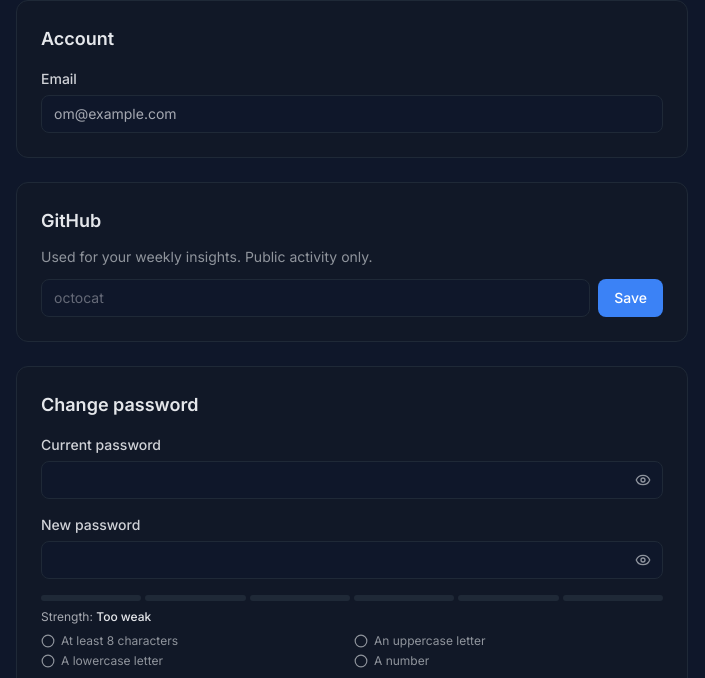
Test: SettingsPage › says when the current password is wrong
In the password field labelled "Current password": (352, 480) [41,461,663,499], type "wrong"
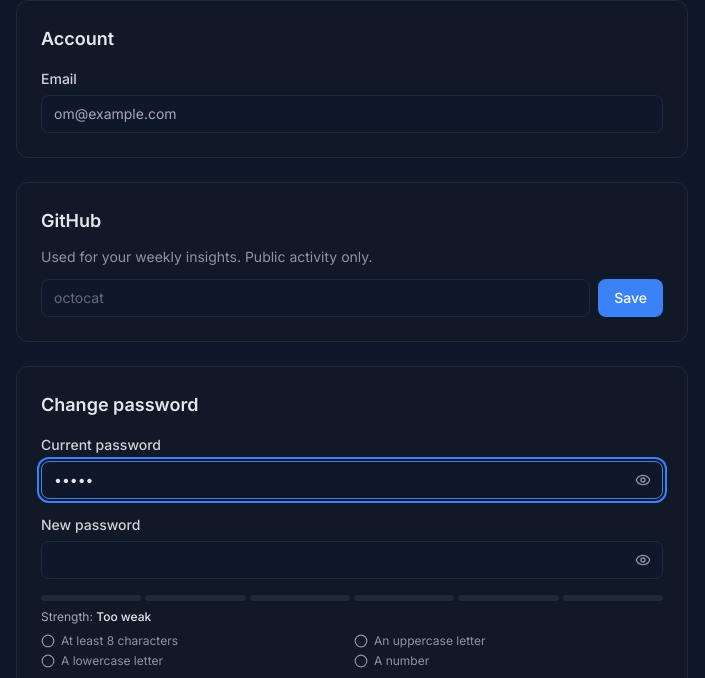
In the password field labelled "New password": (352, 560) [41,541,663,579], type "Brand-New-Pass-7"
(page scrolled)
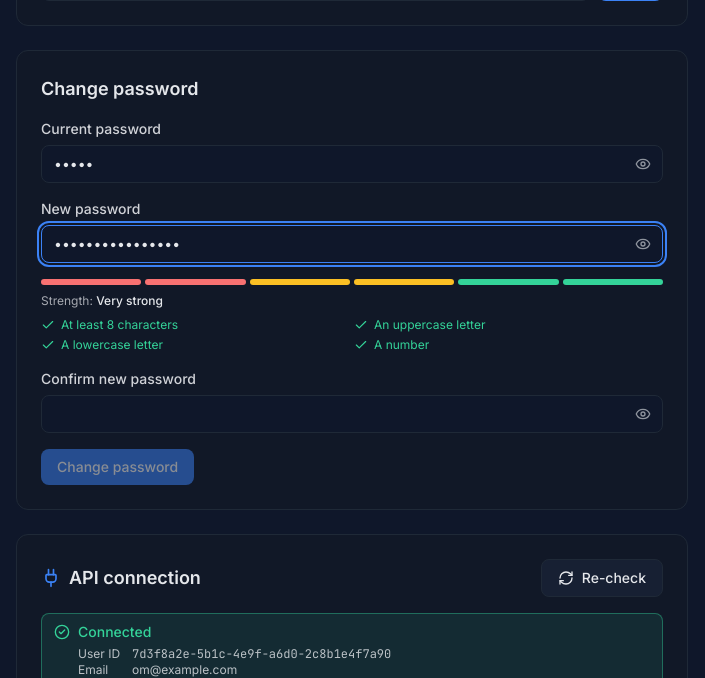
In the password field labelled "Confirm new password": (352, 414) [41,395,663,433], type "Brand-New-Pass-7"
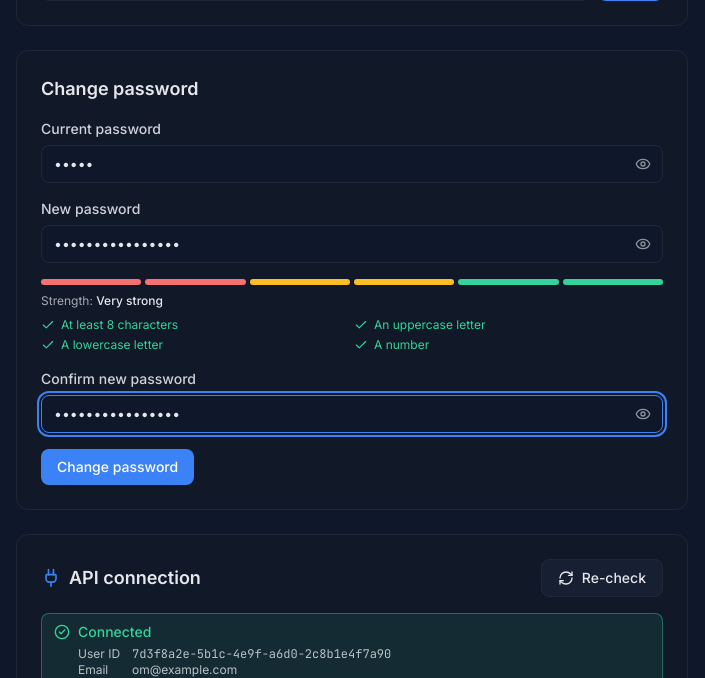
Click the button "Change password": (118, 467) [41,449,194,485]
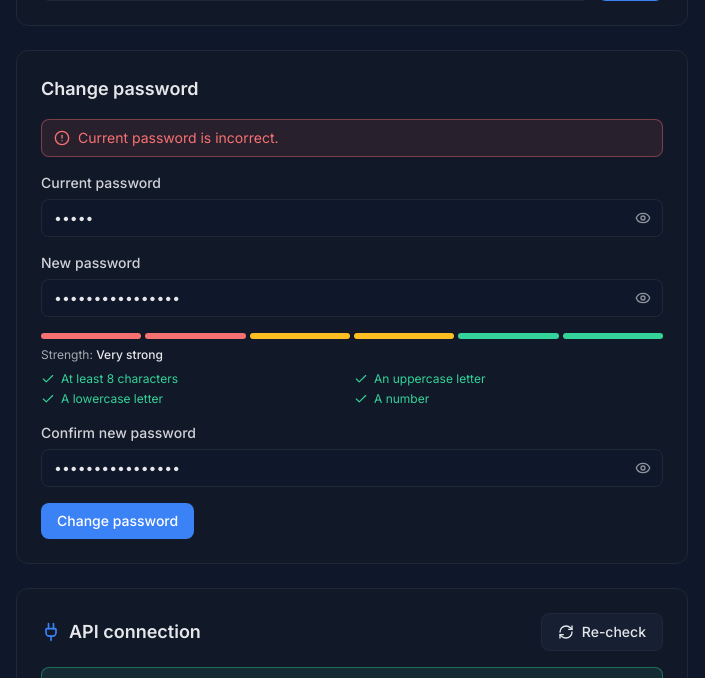
Check: the text "Current password is incorrect." is shown, box [78,128,279,148]
